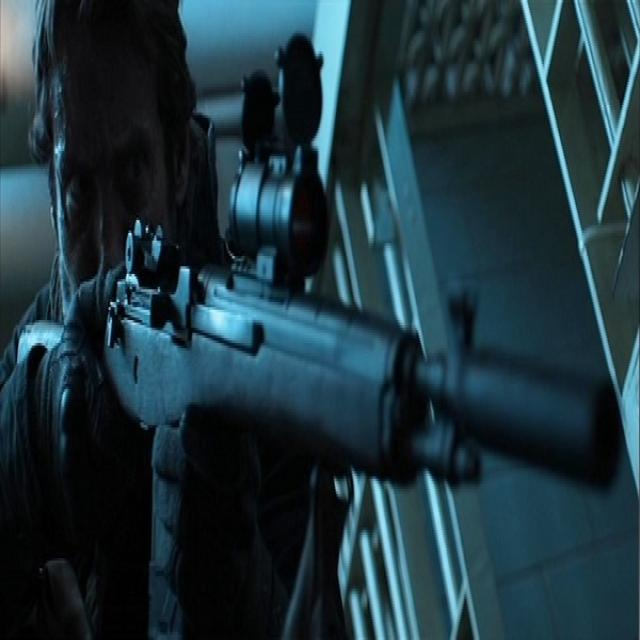rifle: (111, 29, 631, 630)
